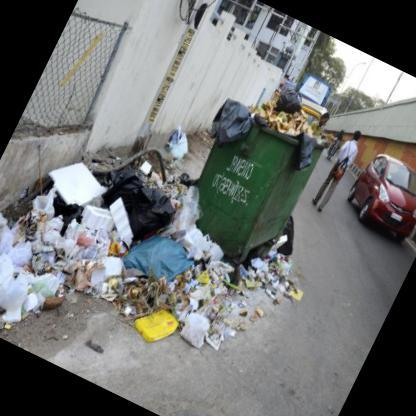Garbage: (0, 179, 234, 380), (7, 126, 193, 338), (88, 211, 262, 382), (0, 138, 125, 359), (251, 76, 326, 146), (242, 233, 305, 311), (202, 90, 256, 154), (264, 212, 306, 272), (159, 124, 195, 167)
